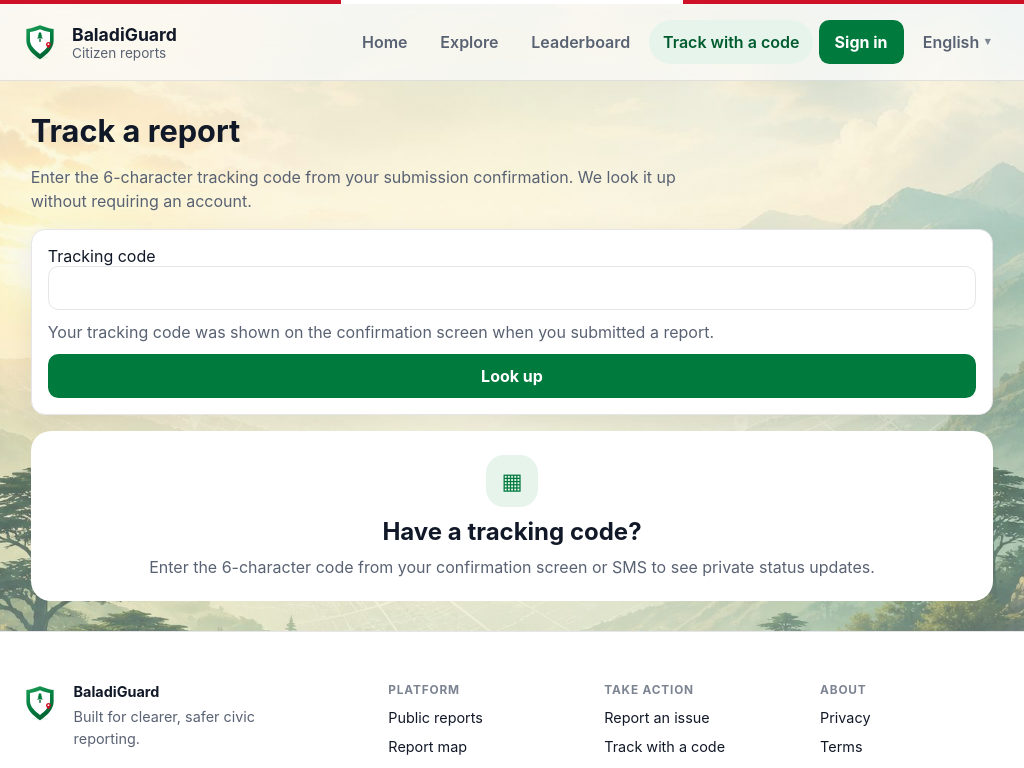
issue #314 production-readiness › explains tracking before lookup and shows shared status meaning after
Expected: the heading "Have a tracking code?" is shown, x1=382 y1=517 x2=642 y2=546
Type "ABC234" into the field labelled "Tracking code" at [512, 288], box x1=48 y1=266 x2=976 y2=310
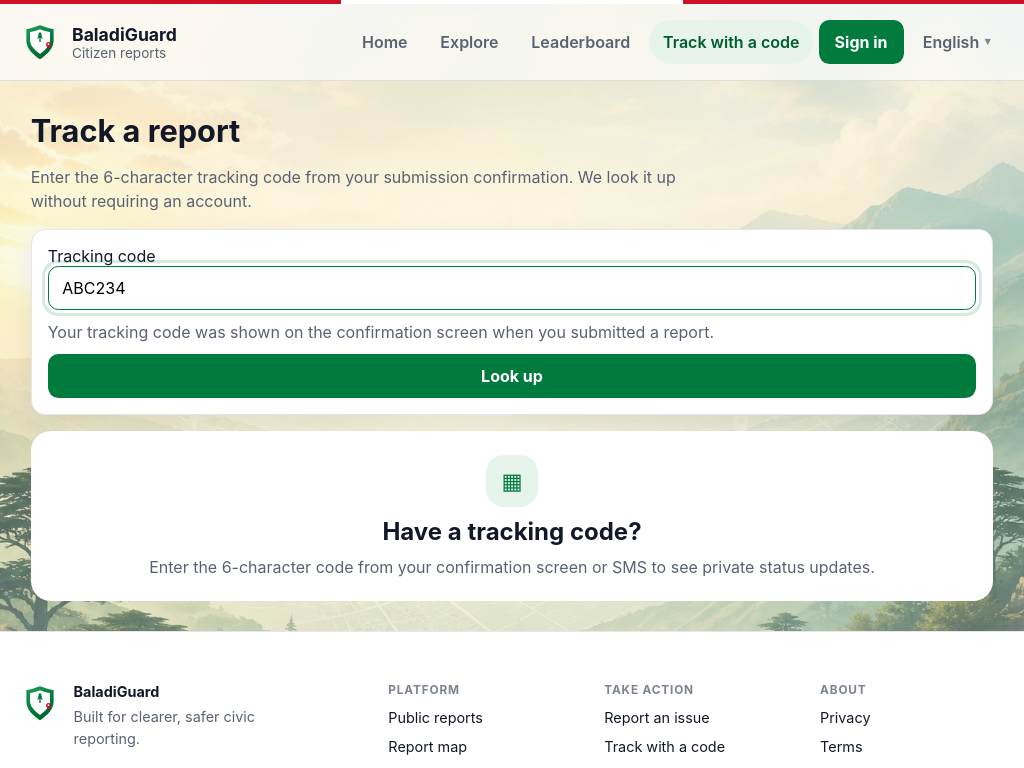
Click the button "Look up" at [512, 376], box x1=48 y1=354 x2=976 y2=398
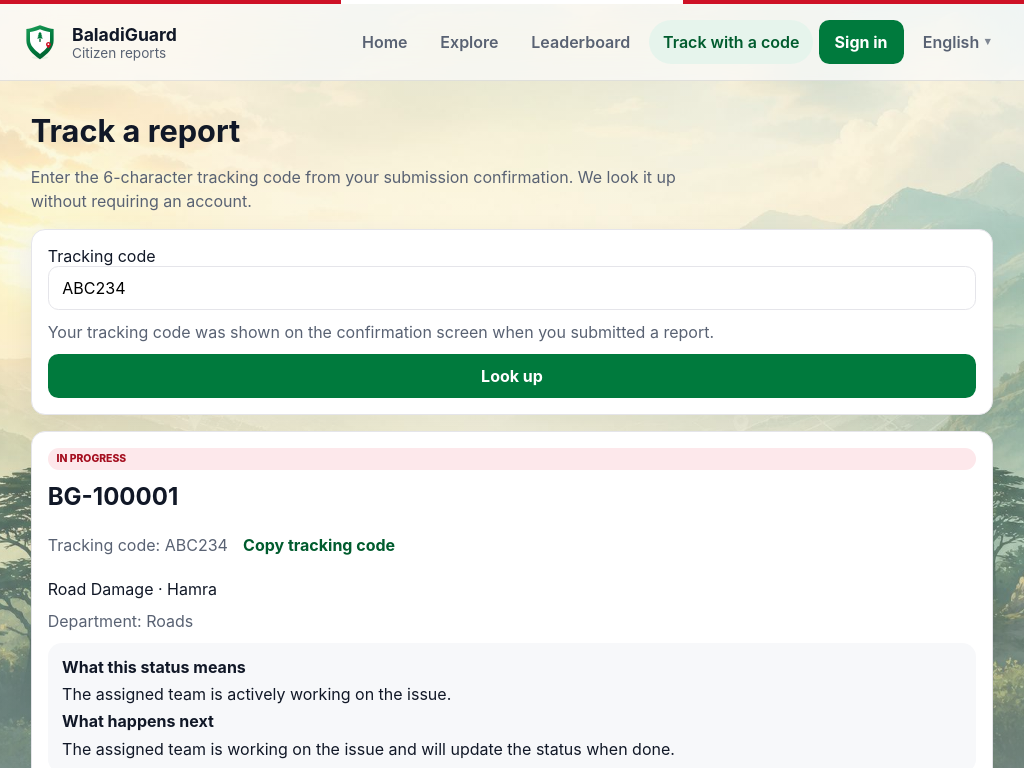
Result: the text "The assigned team is actively working on the issue." is shown at x1=62 y1=684 x2=451 y2=704
Result: the text "The assigned team is working on the issue and will update the status when done." is shown at x1=62 y1=739 x2=675 y2=759
